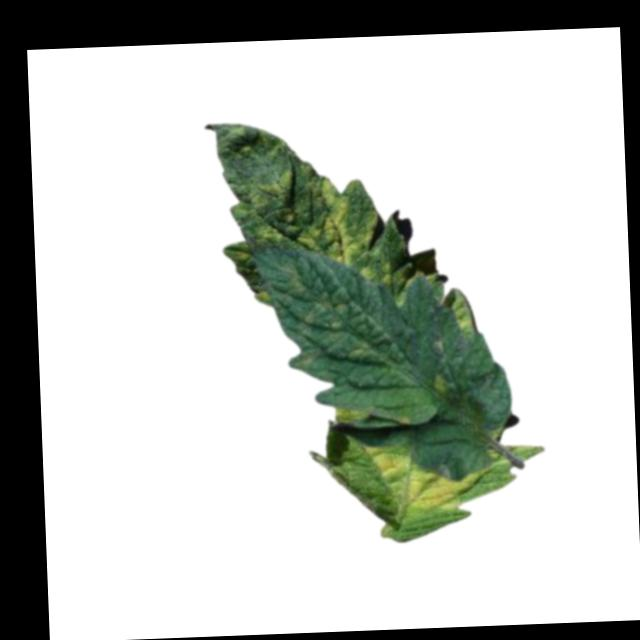Leaf_Mold: (278, 259, 408, 377), (364, 440, 486, 515), (315, 174, 380, 268)
